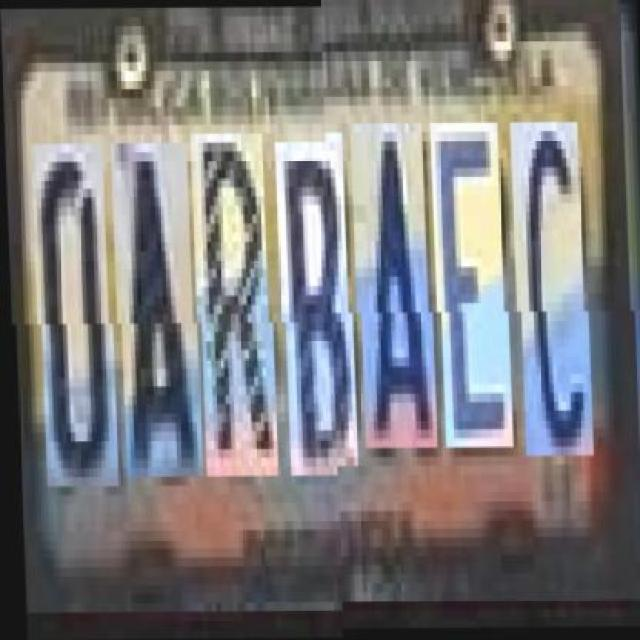0: (34, 144, 115, 487)
a: (113, 143, 199, 477), (353, 133, 435, 458)
b: (278, 142, 354, 476)
c: (514, 132, 591, 466)
e: (433, 133, 510, 458)
r: (194, 133, 275, 476)
